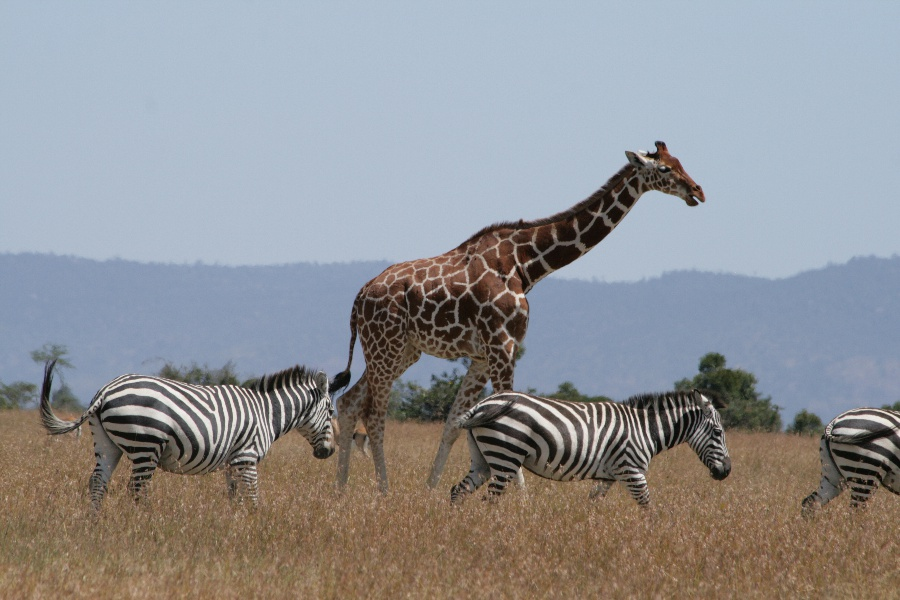giraffe: (346, 130, 711, 391)
